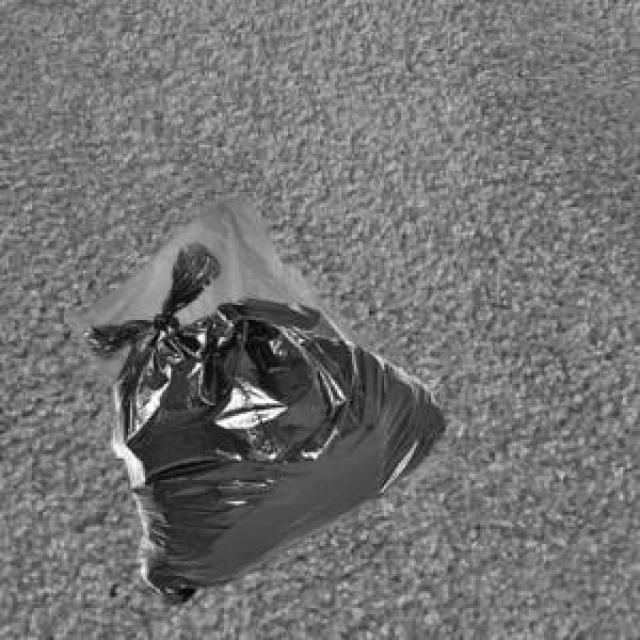miscellaneous trash: (81, 239, 442, 602)
